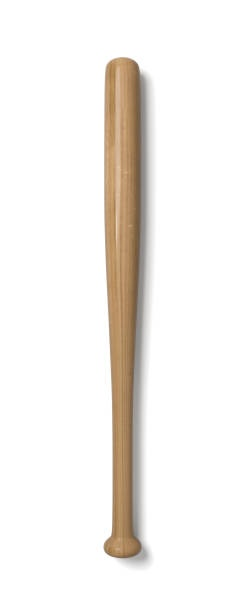bita: (98, 60, 159, 555)
